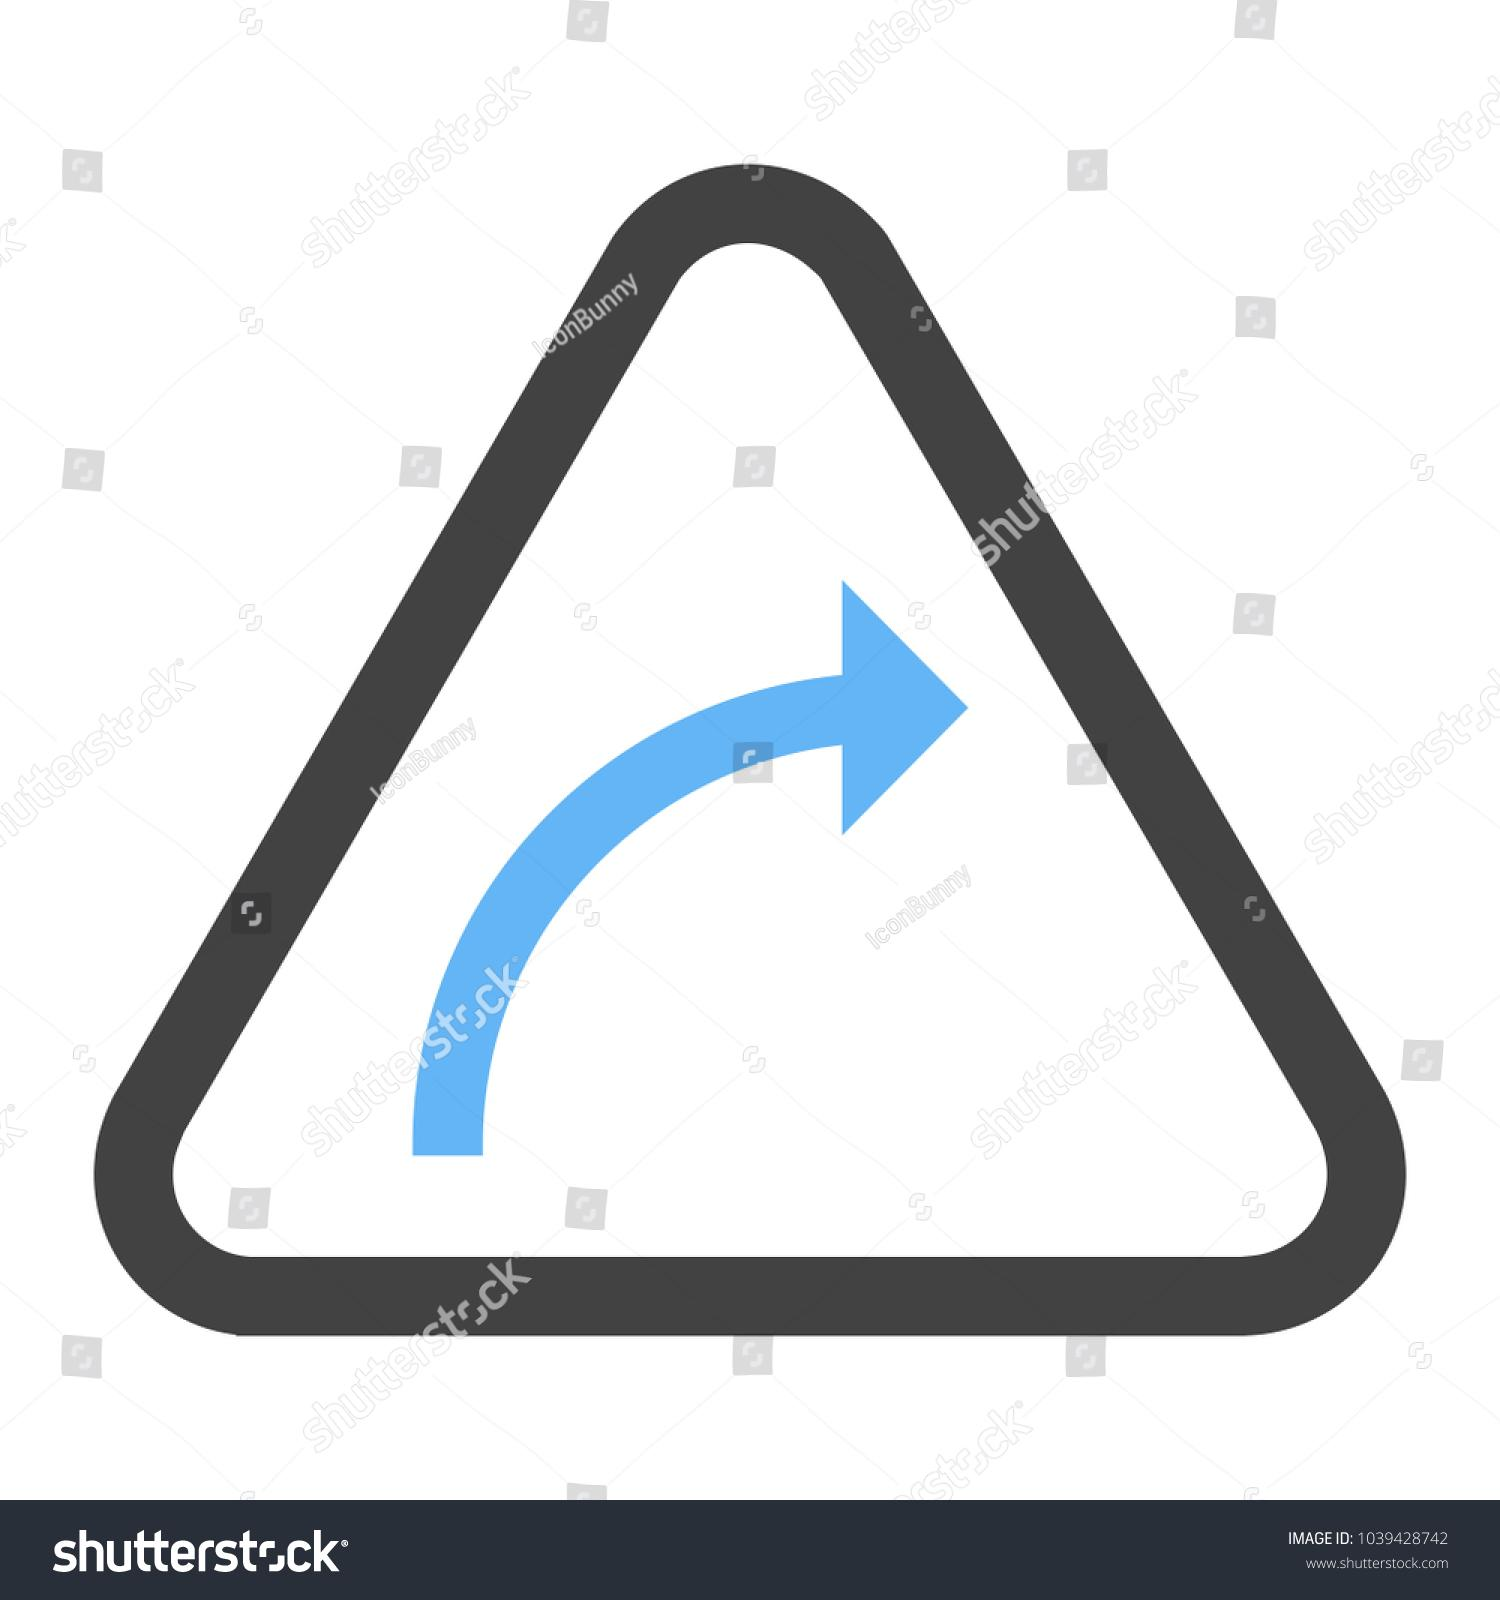Right Hand Curve: (73, 111, 1427, 1367)
